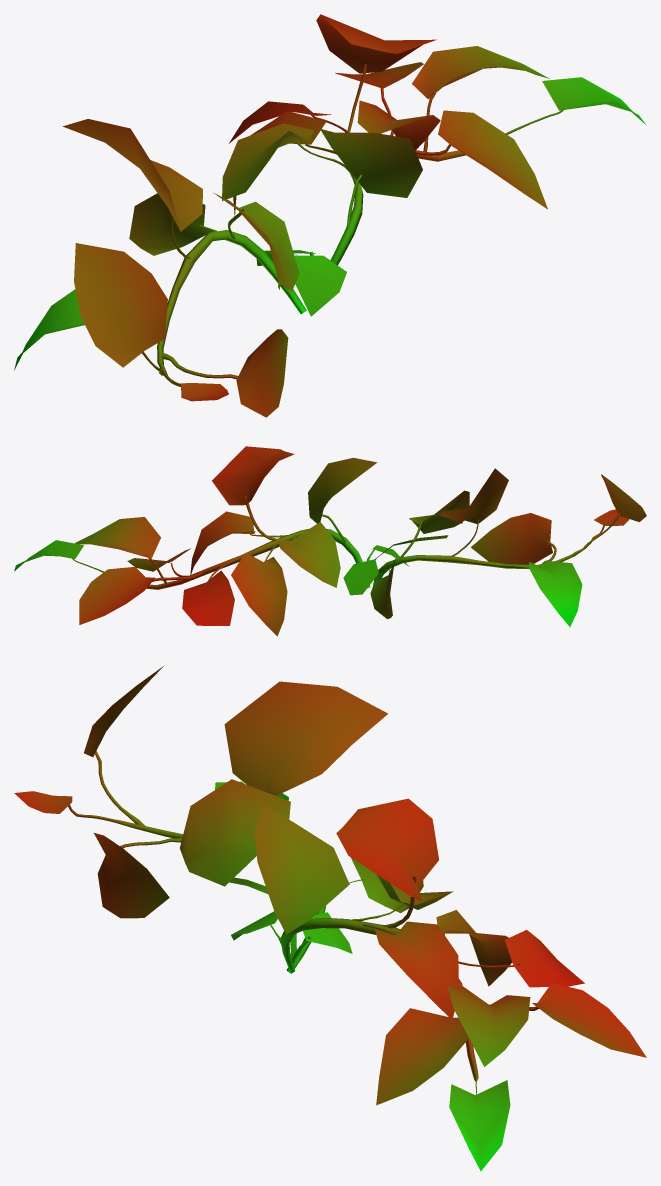
The model's file is Money Plant_LOD1_Var4_uchmfdyia.fbx.
The picture shows the model from 3 angles, top to bottom: view 1: azimuth 30°, elevation 25°; view 2: azimuth 150°, elevation 25°; view 3: azimuth 270°, elevation 25°; orthographic projection. The views are drawn at different scales.
Visible parts, largest first — view 1: _7d52_Var4_LOD1; view 2: _7d52_Var4_LOD1; view 3: _7d52_Var4_LOD1.
Part boxes in pixels (<box>): _7d52_Var4_LOD1: <box>14,14,646,417</box>; _7d52_Var4_LOD1: <box>14,446,646,636</box>; _7d52_Var4_LOD1: <box>14,665,646,1171</box>.
Size of the model in its own units: 38.13 by 11.19 by 29.95.
